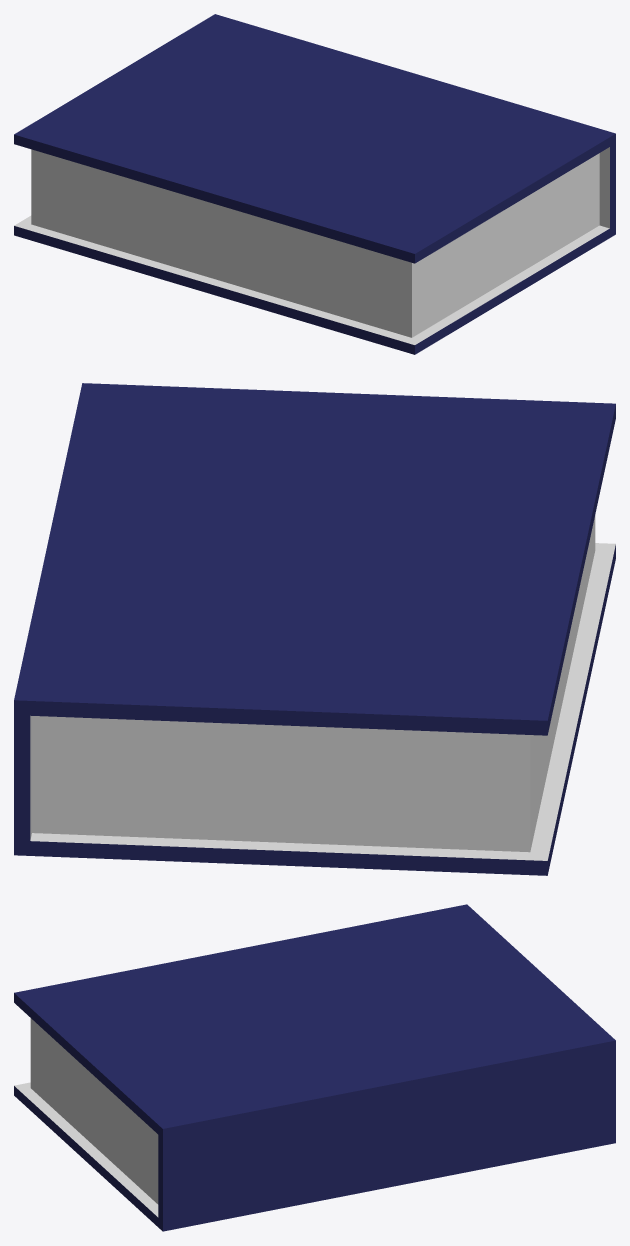
The model's file is book.fbx.
The picture shows the model from 3 angles, top to bottom: view 1: azimuth 30°, elevation 25°; view 2: azimuth 150°, elevation 25°; view 3: azimuth 270°, elevation 25°; orthographic projection. The views are drawn at different scales.
Visible parts, largest first — view 1: Plane.013; view 2: Plane.013; view 3: Plane.013.
Part boxes in pixels (bbox=[...]): Plane.013: bbox=[14, 14, 615, 354]; Plane.013: bbox=[14, 383, 615, 875]; Plane.013: bbox=[14, 904, 615, 1231].
Size of the model in its own units: 65.59 by 13.98 by 74.28.
